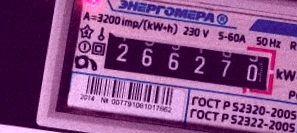0: (243, 61, 258, 83)
2: (113, 40, 130, 63), (191, 53, 206, 76)
6: (164, 50, 180, 71), (139, 46, 154, 68)
7: (216, 57, 232, 79)
screen: (92, 20, 285, 104)
